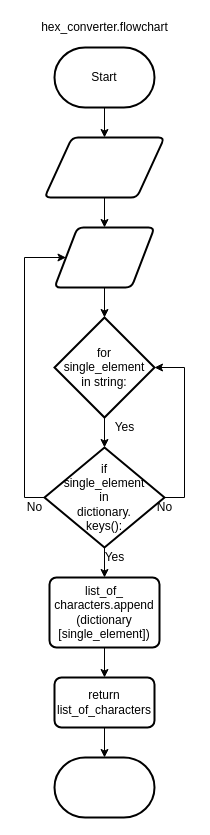
The diagram is 210 pixels wide and 835 high, and some of its shapes have lost their labels. Here are the shapes that lost their labels. From the top down, the box of each, then its label:
(43, 136, 165, 198): list_of_ characters = []
(53, 226, 155, 288): dictionary = {}
(53, 756, 155, 818): Stop
